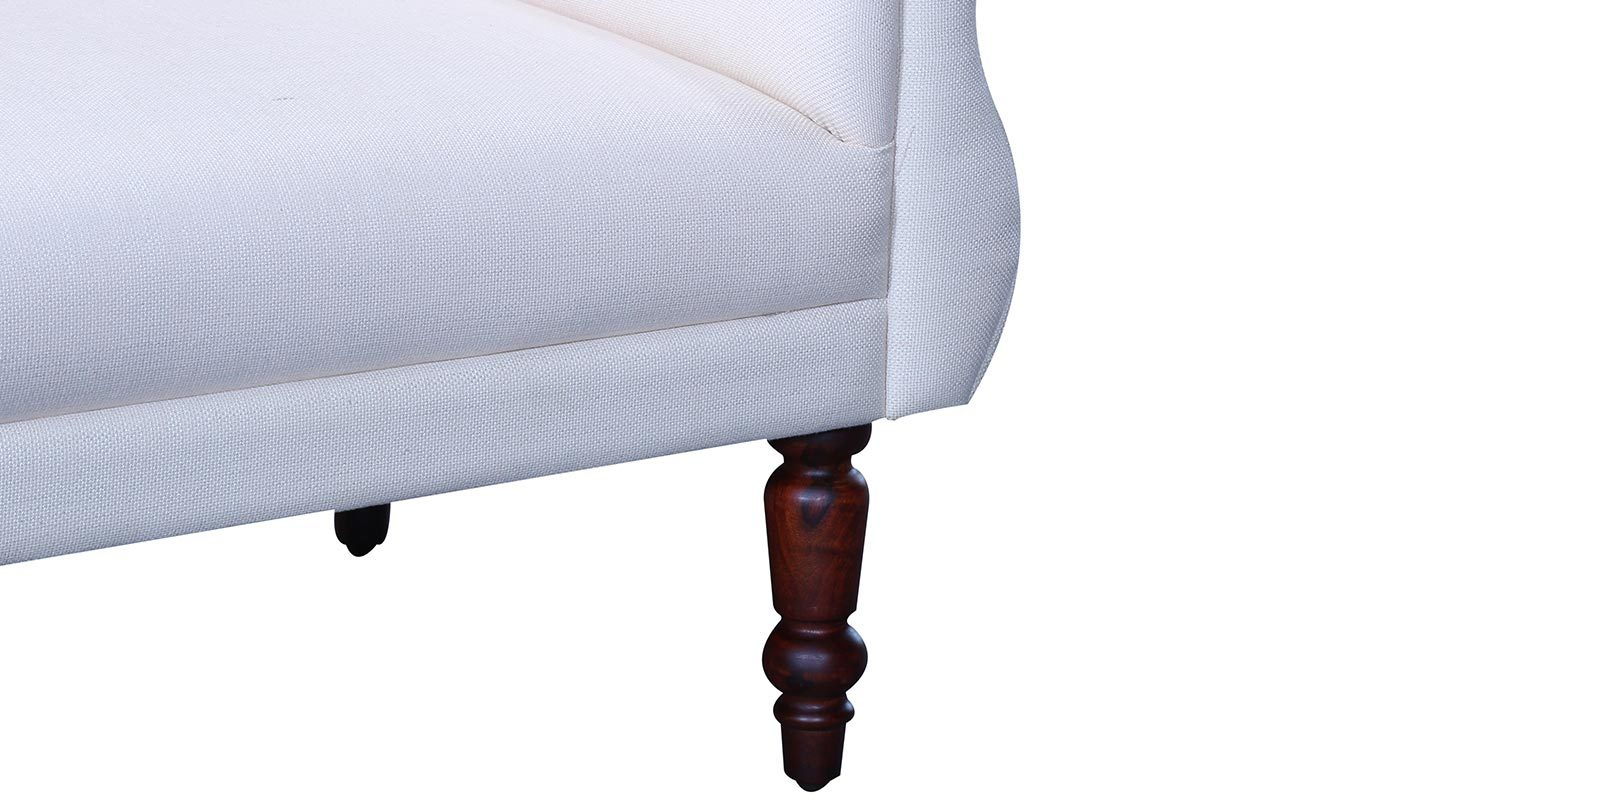Harleston Three Seater Sofa in Honey Oak Finish by Amberville: (17, 1, 1026, 799)
